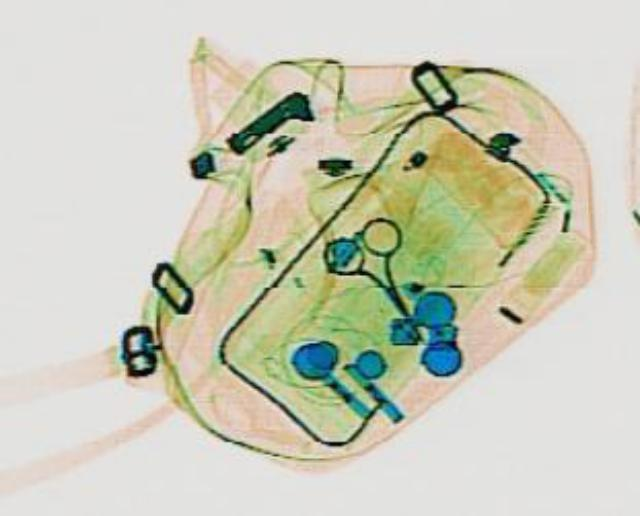Scissors: (306, 209, 454, 341)
